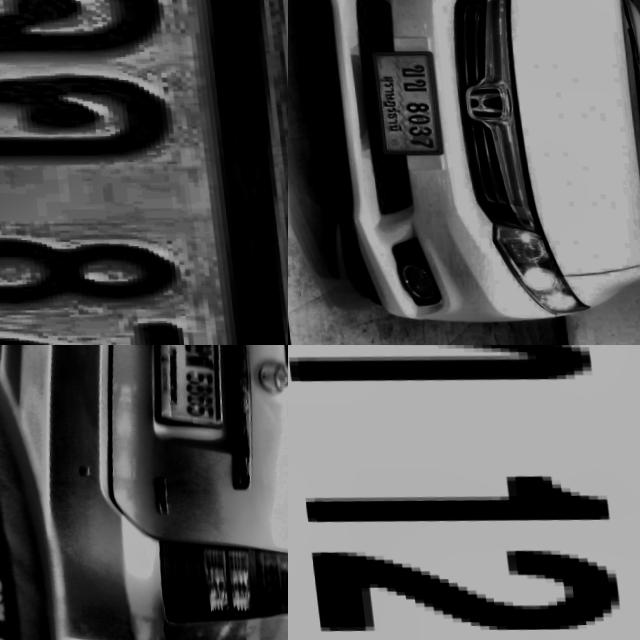license-plate: (288, 345, 640, 640), (0, 0, 288, 345), (356, 40, 447, 164), (134, 345, 234, 429)
